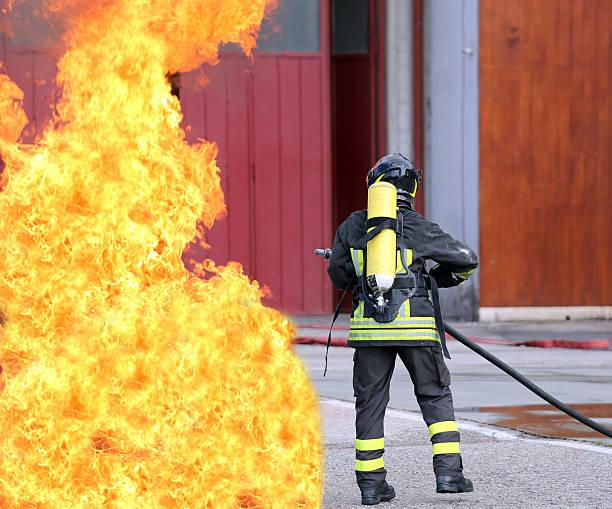Fire: (0, 1, 326, 509)
